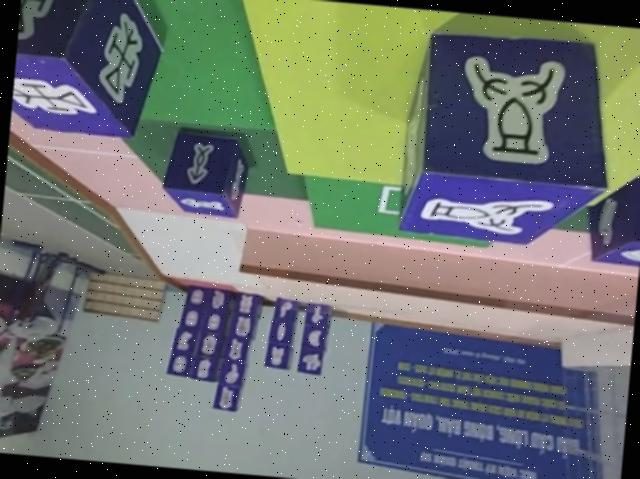R2 Real Blue: (389, 23, 616, 259), (8, 0, 163, 141), (158, 126, 251, 219), (586, 164, 640, 265)
